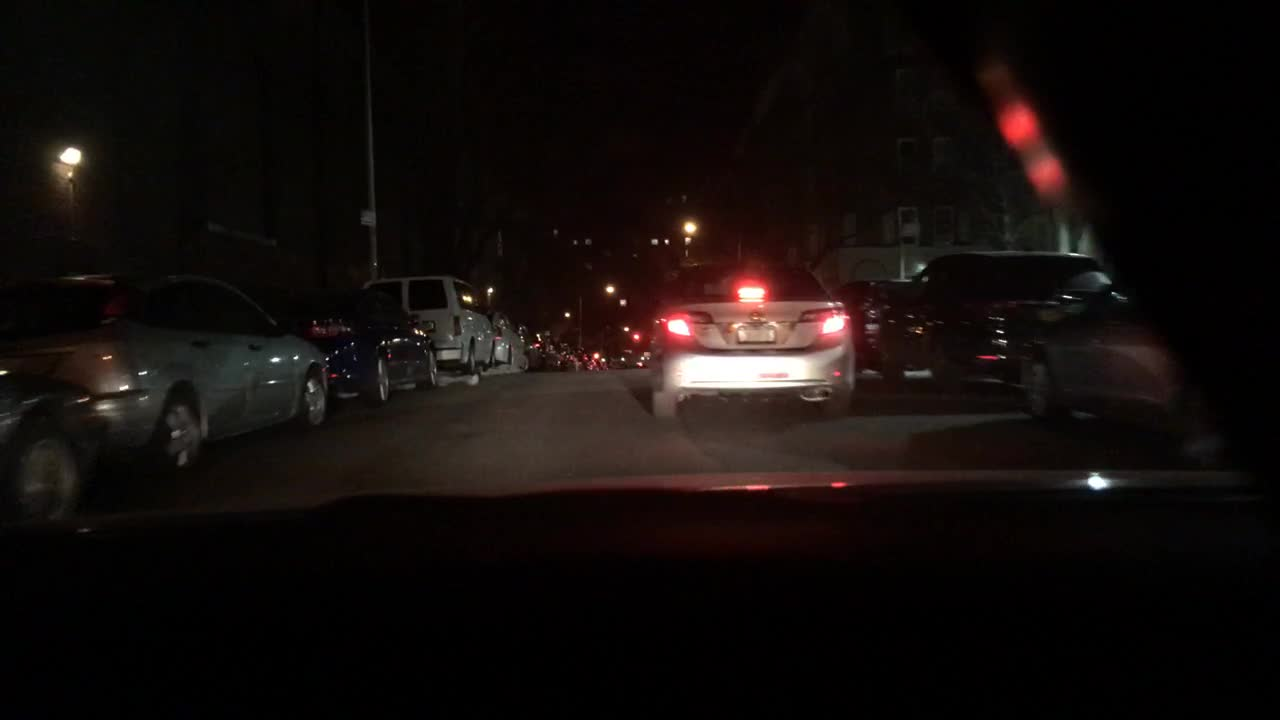car: (1, 273, 333, 472), (844, 249, 1186, 408), (649, 262, 856, 424), (1015, 297, 1198, 426), (0, 376, 100, 535), (300, 303, 441, 413), (364, 277, 492, 375), (489, 320, 528, 370), (525, 339, 566, 369), (609, 348, 642, 371)
